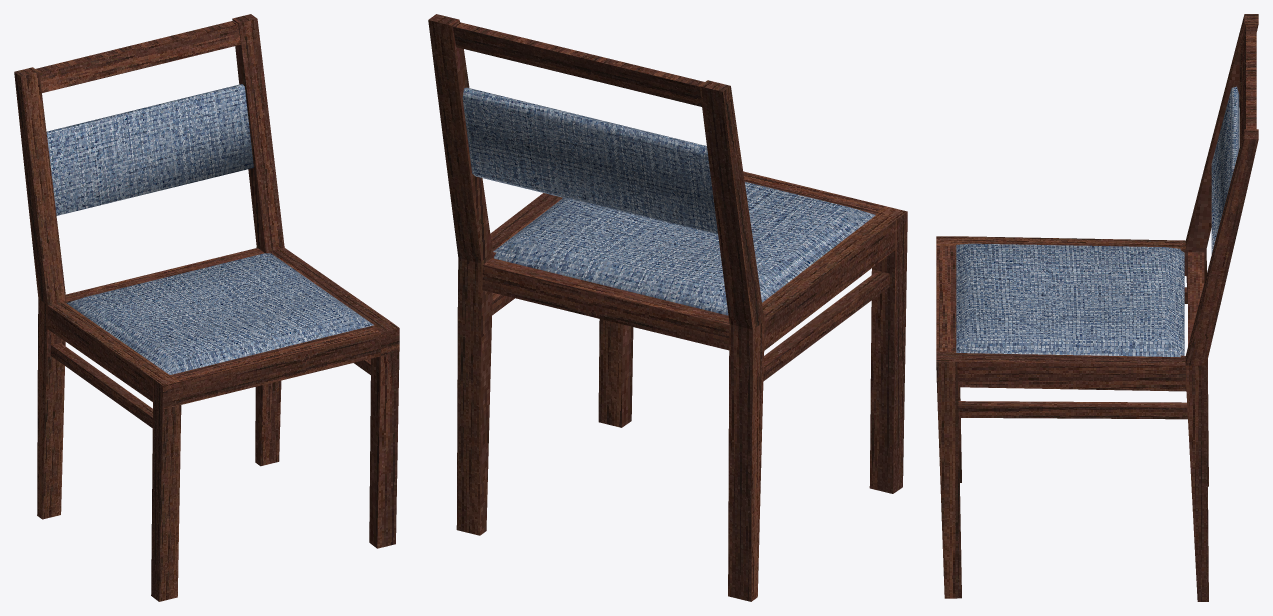
The model's file is chair.glb.
3 views of the same model, side by side, from view 1: azimuth 30°, elevation 25°; view 2: azimuth 150°, elevation 25°; view 3: azimuth 270°, elevation 25° (orthographic). The views are drawn at different scales.
Visible parts, largest first — view 1: chair, pillow; view 2: chair, pillow; view 3: chair, pillow.
Boxes of the visible parts, <box> form: chair: <box>14,14,399,601</box>; pillow: <box>46,84,373,374</box>; chair: <box>428,14,907,601</box>; pillow: <box>462,87,875,315</box>; chair: <box>936,14,1258,601</box>; pillow: <box>956,86,1239,357</box>.
Bounding box in the file's own units: 1.09 × 1.87 × 1.18.
1 material, 1 textured.
